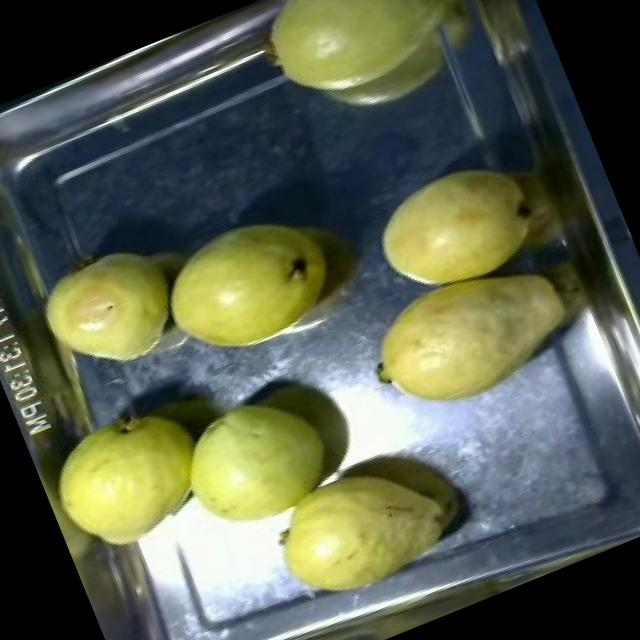Fruit: (237, 417, 498, 639), (347, 243, 596, 441), (136, 186, 364, 386), (28, 386, 241, 579), (158, 370, 364, 559), (239, 0, 498, 141), (352, 141, 550, 311), (22, 226, 199, 398)
